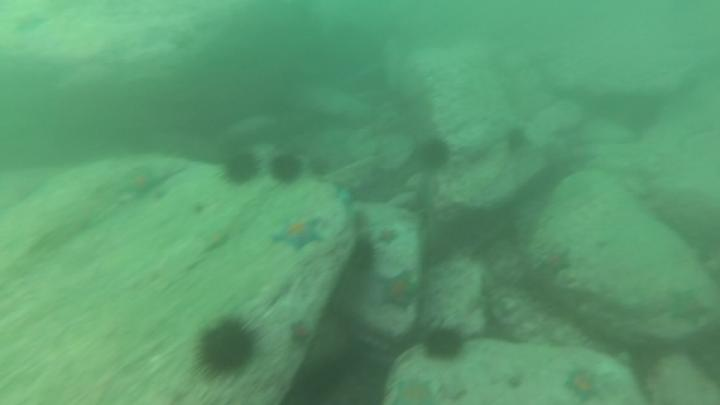echinus: (191, 316, 266, 386), (422, 322, 467, 362), (219, 151, 264, 188), (628, 339, 666, 378), (266, 152, 306, 188), (418, 136, 455, 174), (348, 236, 381, 274), (505, 126, 531, 154), (350, 207, 371, 237)
starfish: (269, 215, 325, 254), (666, 287, 712, 331), (378, 271, 419, 313), (562, 366, 606, 405), (392, 377, 440, 405), (120, 170, 163, 200), (537, 250, 574, 280), (287, 317, 316, 349), (376, 228, 403, 246)
